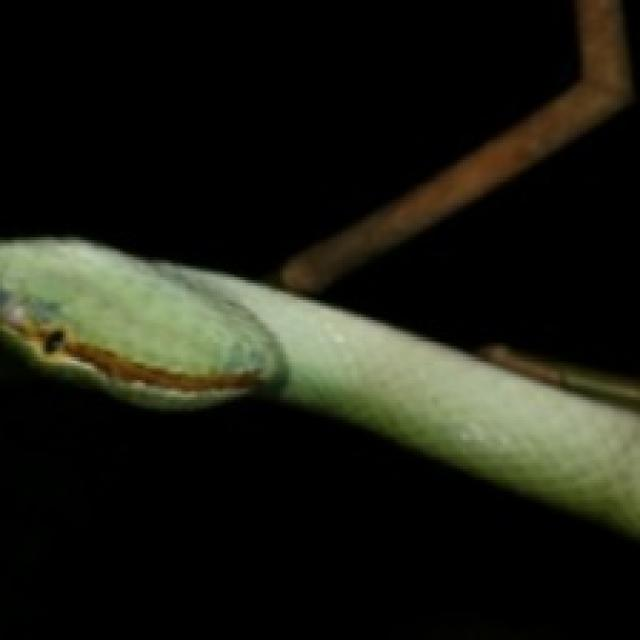north ph temple pitviper: (0, 237, 637, 537)
